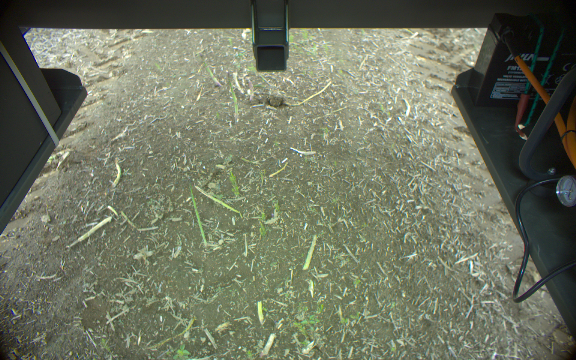aspa: (182, 186, 211, 251), (193, 52, 226, 92), (228, 82, 241, 128), (244, 78, 258, 107)
